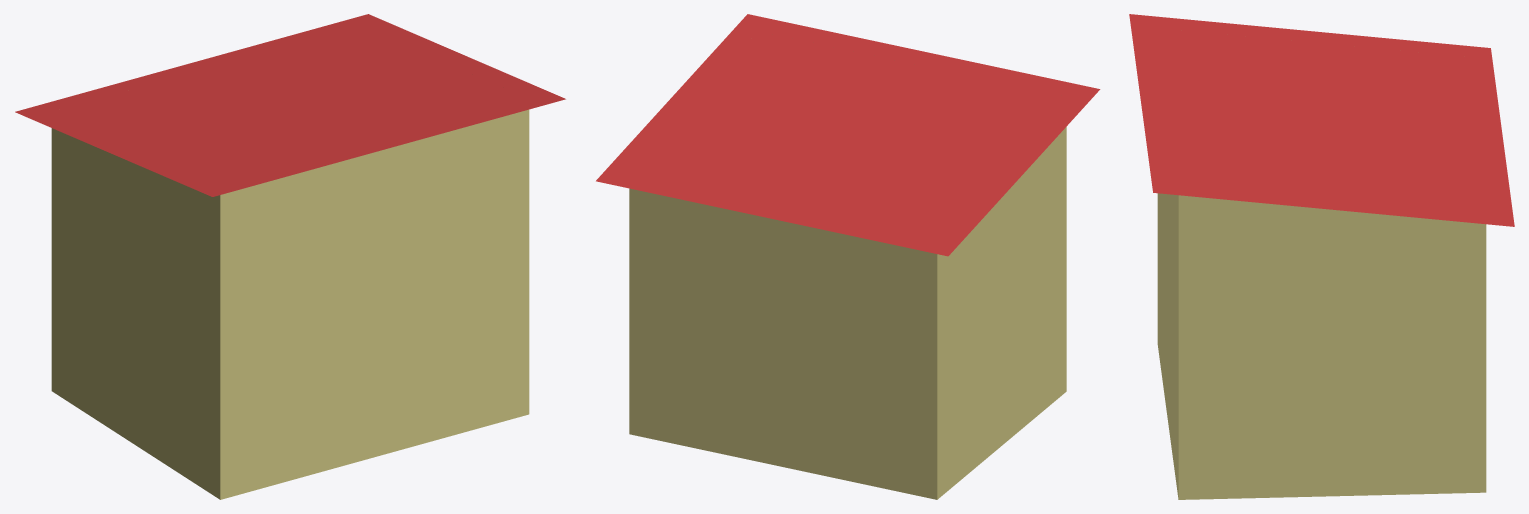
3 renders of one model, left to right at view 1: azimuth 30°, elevation 25°; view 2: azimuth 150°, elevation 25°; view 3: azimuth 270°, elevation 25°, orthographic. The views are drawn at different scales.
Parts seen in each view (by area): view 1: group_5, group_3, group_4; view 2: group_5, group_3, group_4; view 3: group_5, group_3, group_4.
Part boxes in pixels (bbox=[...]): group_5: bbox=[51, 109, 529, 499]; group_3: bbox=[52, 14, 564, 184]; group_4: bbox=[15, 14, 565, 196]; group_5: bbox=[629, 127, 1066, 499]; group_3: bbox=[596, 15, 1066, 250]; group_4: bbox=[598, 14, 1100, 256]; group_5: bbox=[1157, 193, 1486, 499]; group_3: bbox=[1144, 28, 1514, 226]; group_4: bbox=[1129, 14, 1514, 225].
Bounding box in the file's own units: 8.22 × 7.15 × 6.53.
